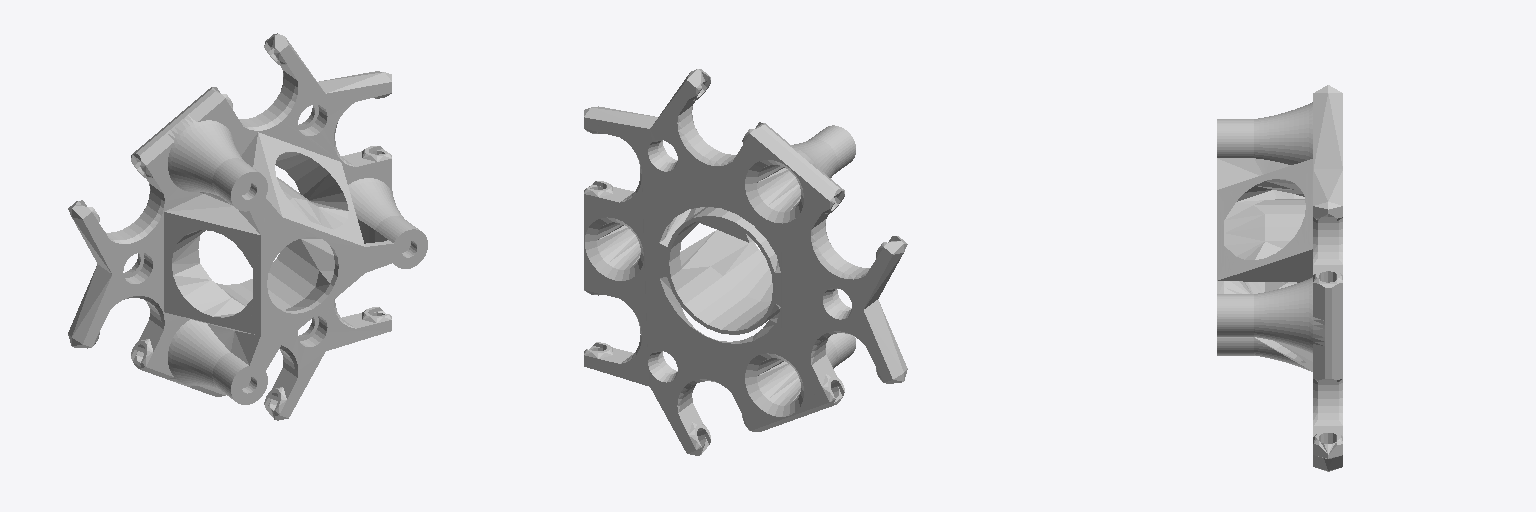
File: Carriage v6.obj
3 views of the same model, side by side, from view 1: azimuth 30°, elevation 25°; view 2: azimuth 150°, elevation 25°; view 3: azimuth 270°, elevation 25° (orthographic).
Visible parts, largest first — view 1: Mesh1 Model; view 2: Mesh1 Model; view 3: Mesh1 Model.
Part boxes in pixels (bbox=[...]): Mesh1 Model: bbox=[68, 33, 427, 420]; Mesh1 Model: bbox=[584, 69, 907, 455]; Mesh1 Model: bbox=[1217, 85, 1342, 471].
Bounding box in the file's own units: 86.26 × 99.6 × 29.45.